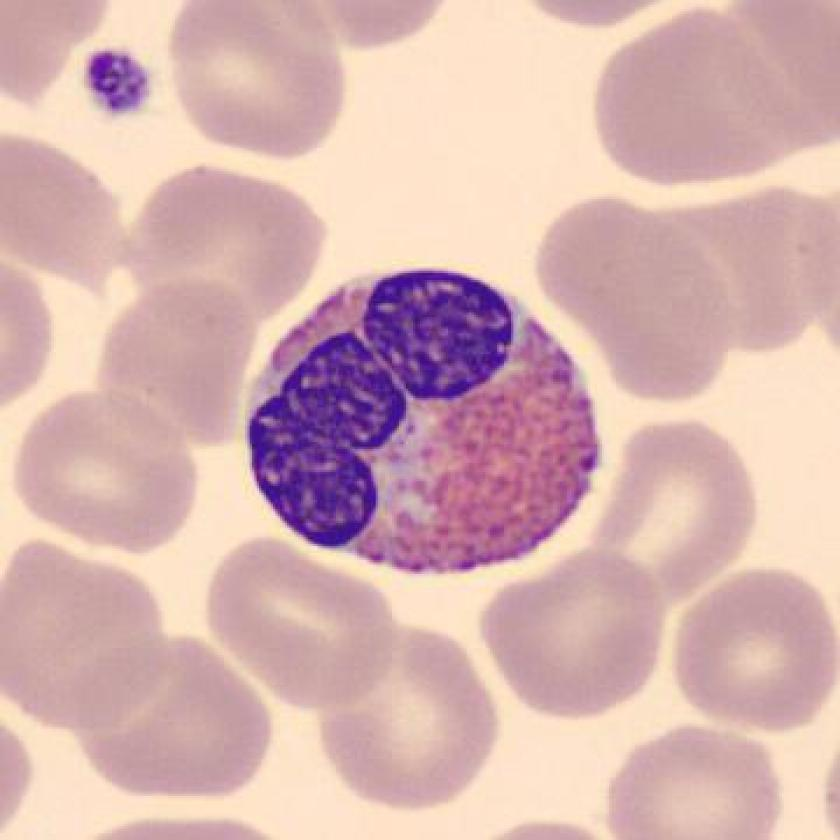eosinophil: (230, 256, 617, 587)
